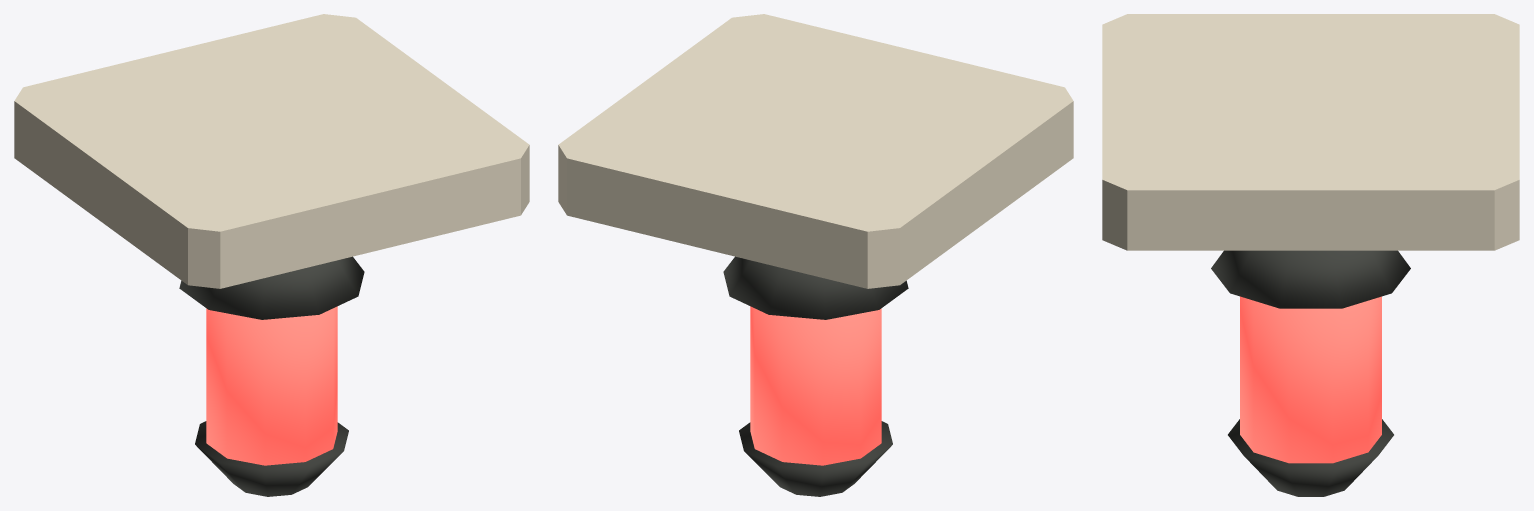
Rendered from lamp_red_ceil.glb.
3 views of the same model, side by side, from view 1: azimuth 30°, elevation 25°; view 2: azimuth 150°, elevation 25°; view 3: azimuth 270°, elevation 25° (orthographic). The views are drawn at different scales.
Visible parts, largest first — view 1: lamp_red_ceil; view 2: lamp_red_ceil; view 3: lamp_red_ceil.
Boxes of the visible parts, x1,y1,x2,y2 form: lamp_red_ceil: (14, 14, 529, 496); lamp_red_ceil: (558, 14, 1073, 496); lamp_red_ceil: (1102, 14, 1519, 496).
Bounding box in the file's own units: 0.5 × 0.5 × 0.5.
